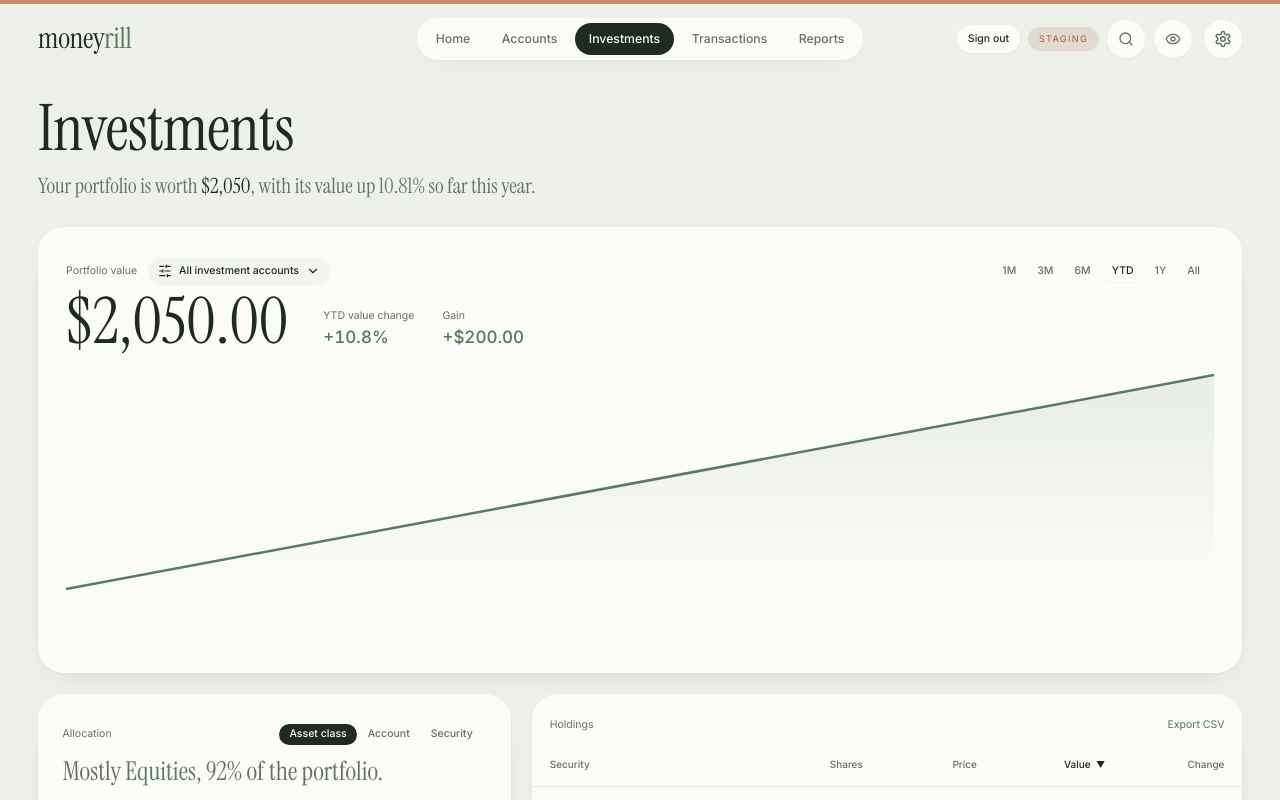
Test: Investment account picker › picking accounts narrows the value and the holdings, names the count and offers Clear
Expected: the text "Portfolio value" is shown, [66,264,137,278]
Click the button "All investment accounts".
click(239, 271)  # box [148,257,331,285]
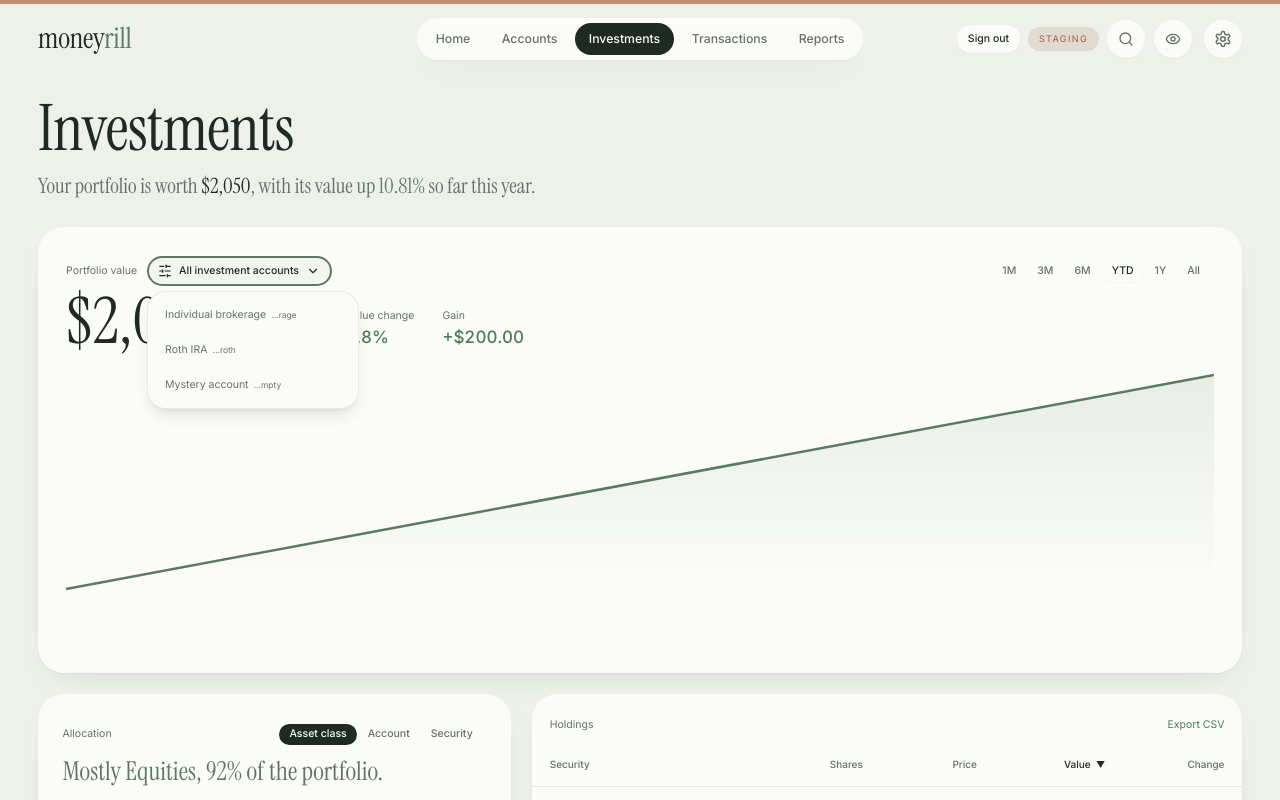
Click the button "Individual brokerage…rage".
click(253, 315)  # box [155,299,351,330]
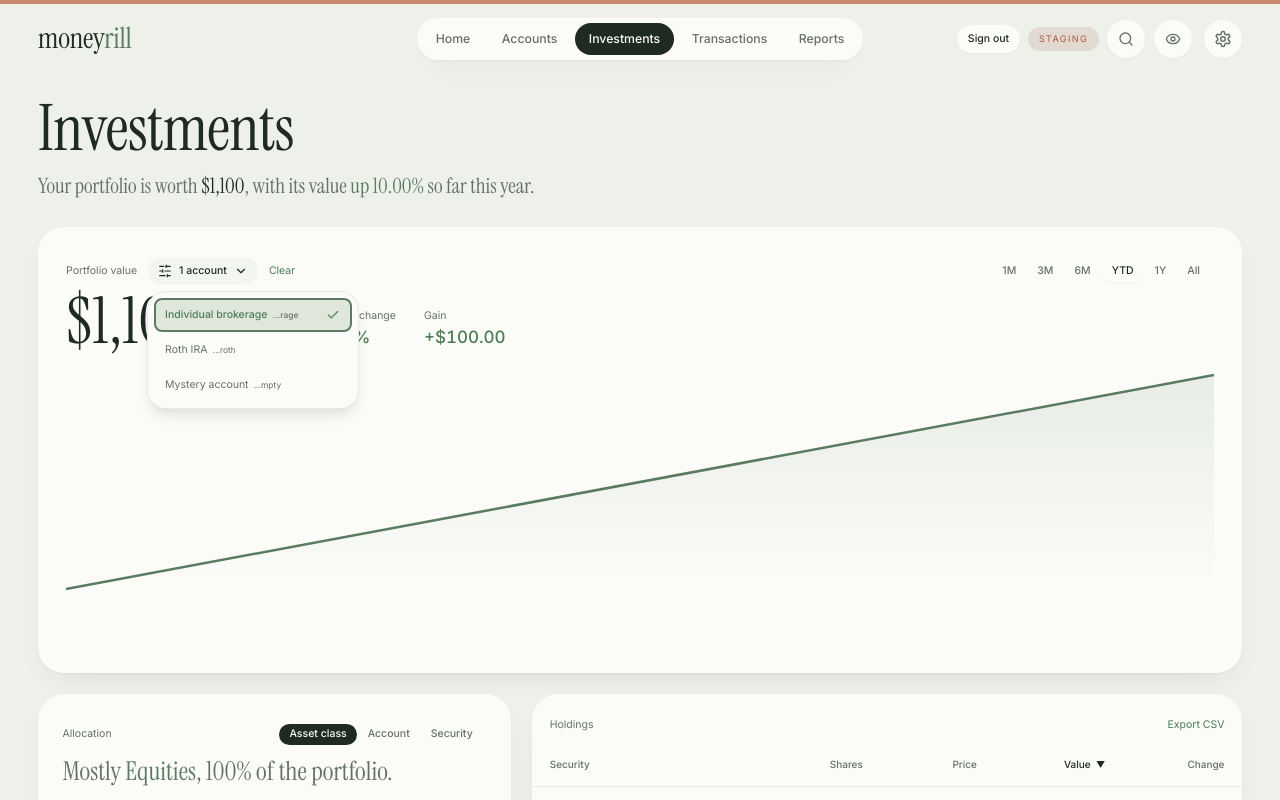
Now the button "1 account" is shown, box [148,257,258,285]
Click the button "Roth IRA…roth".
click(253, 350)  # box [155,334,351,366]
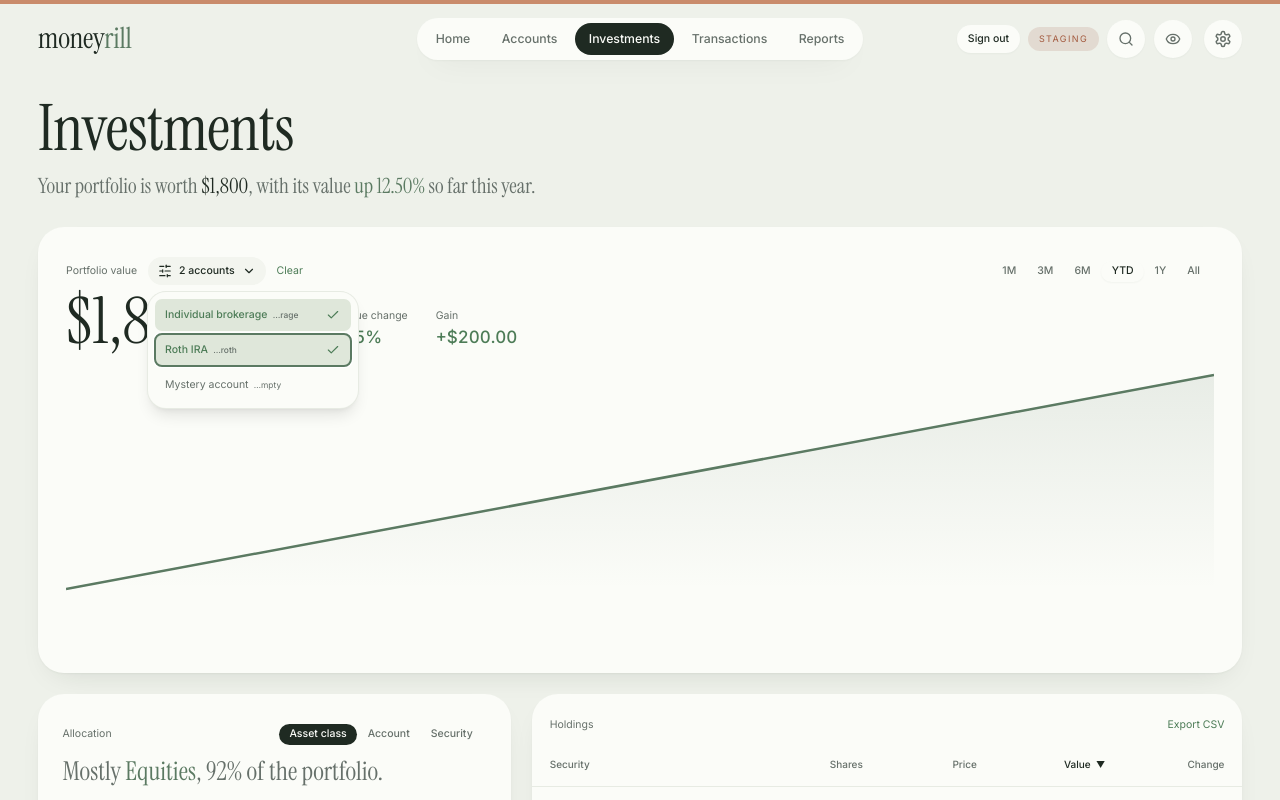
Now the button "Clear" is shown, box [276,264,303,278]
Now the button "2 accounts" is shown, box [148,257,266,285]
